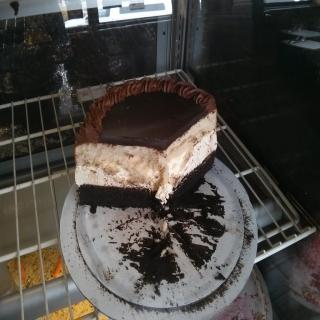Cake: (75, 74, 217, 208)
